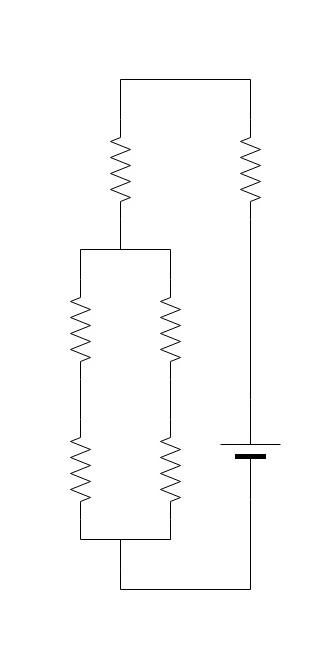resistor: (50, 409, 121, 523), (97, 111, 162, 229), (142, 412, 199, 538), (142, 272, 199, 383), (59, 272, 115, 382), (226, 103, 277, 222)
